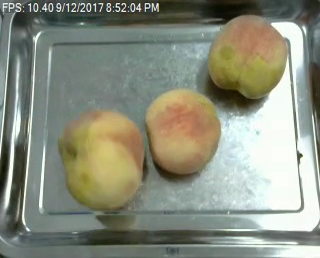Peach: (59, 106, 144, 212), (207, 14, 288, 98), (145, 87, 221, 174)
